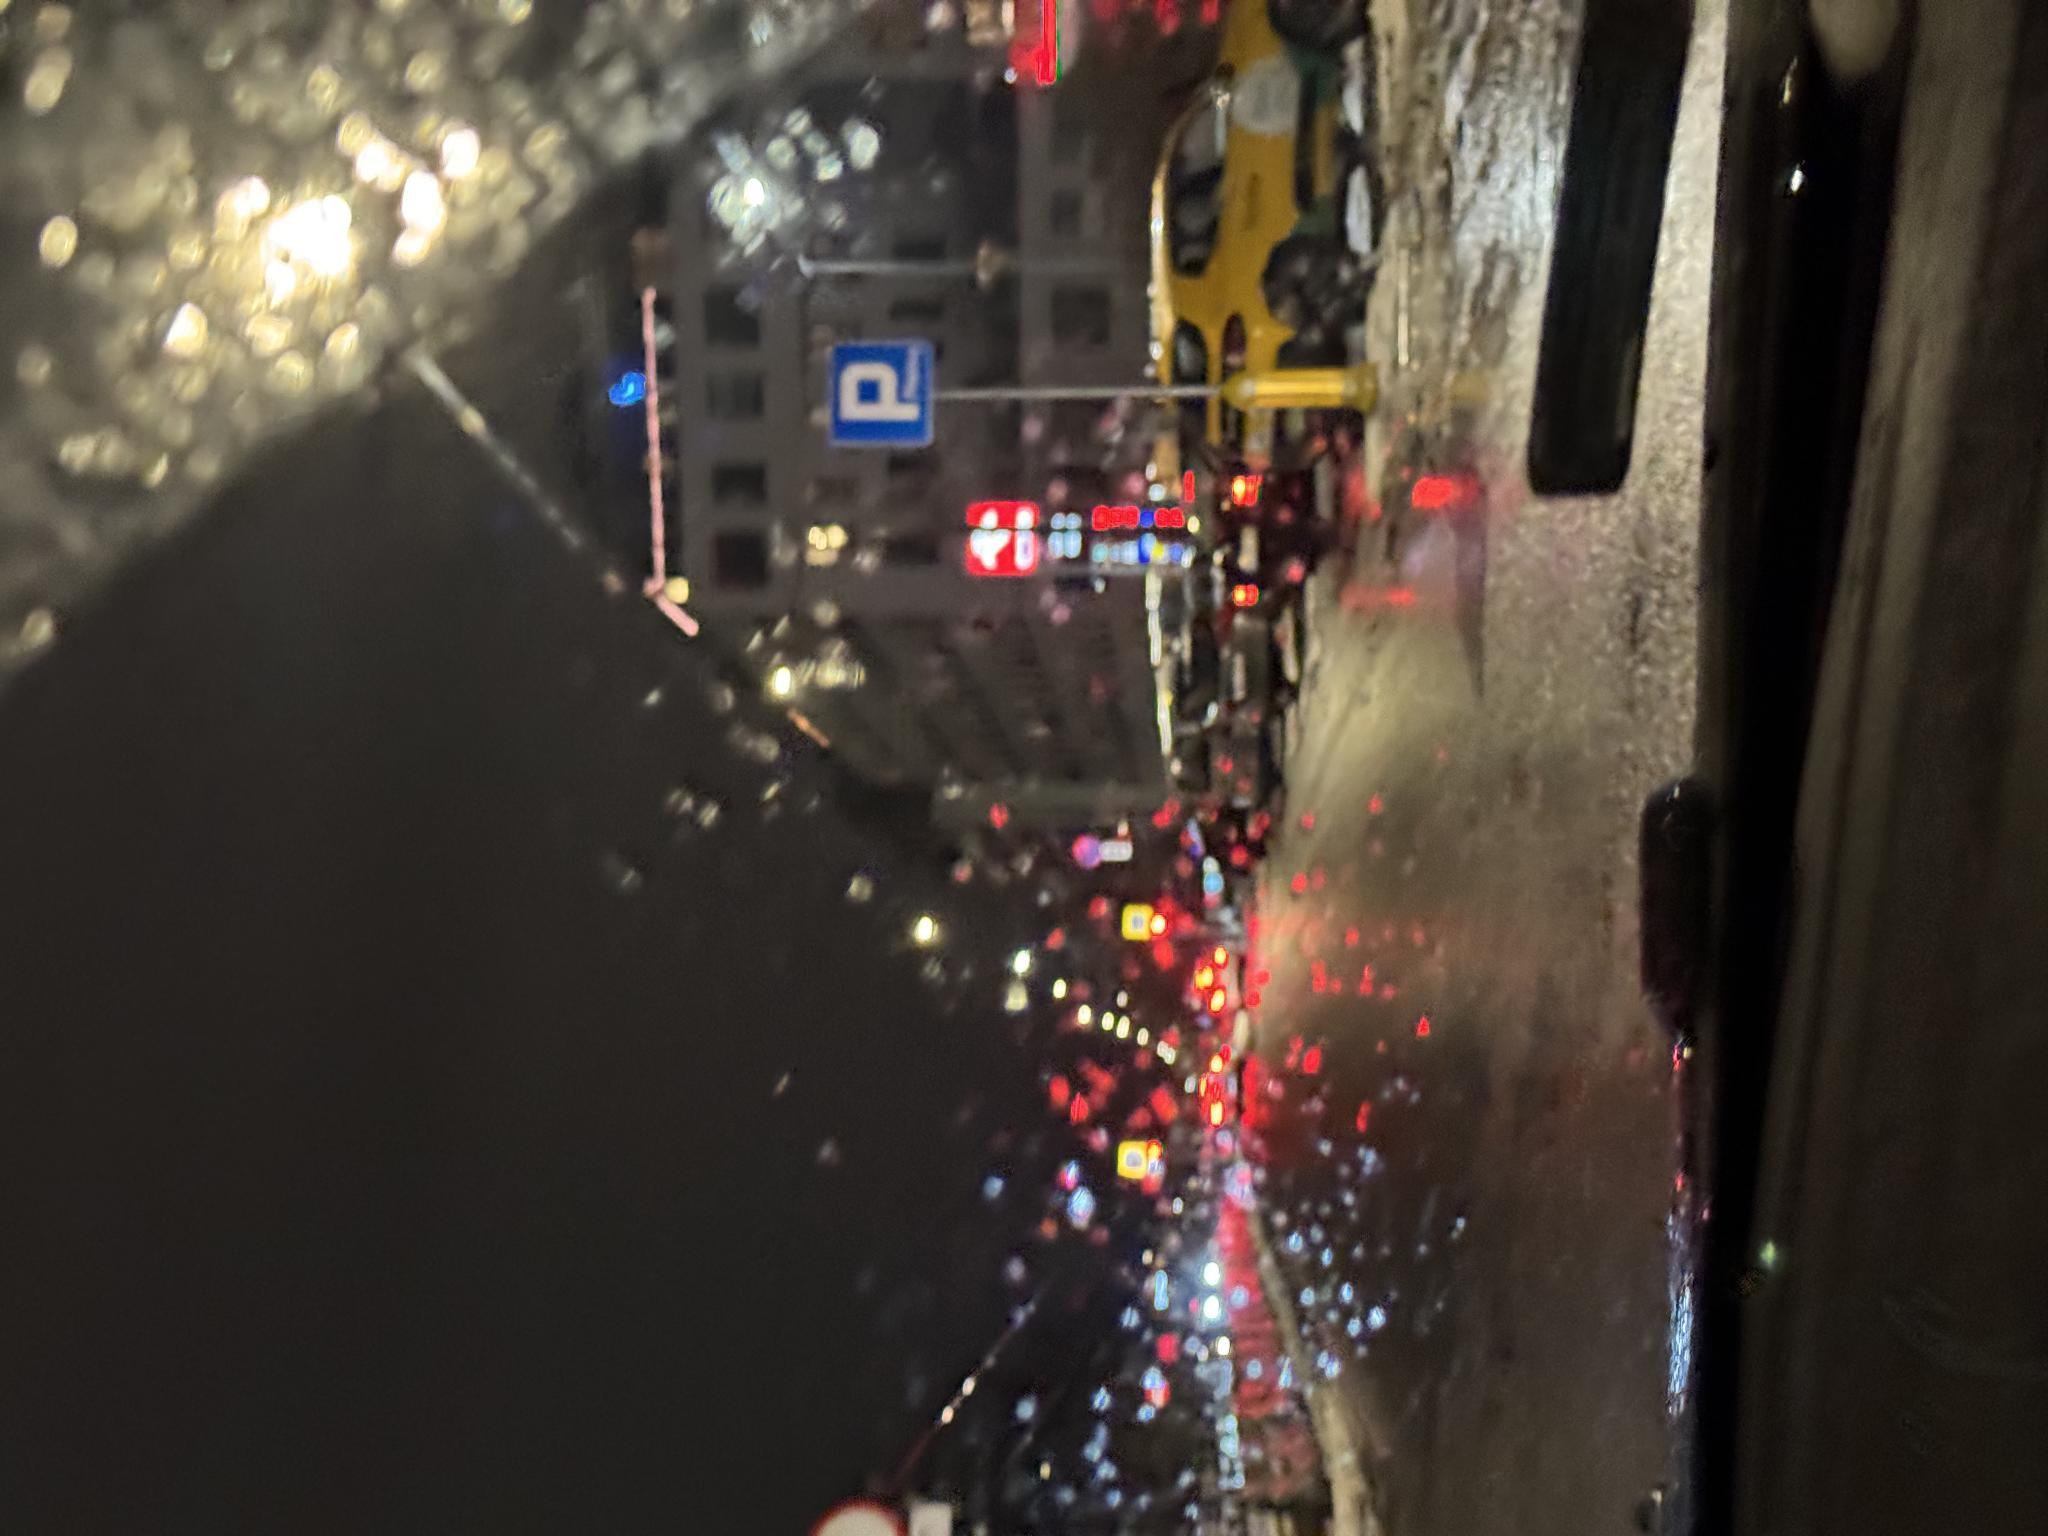information: (1092, 829, 1198, 936)
other: (0, 912, 32, 949)
prohibitory: (0, 810, 35, 908)
